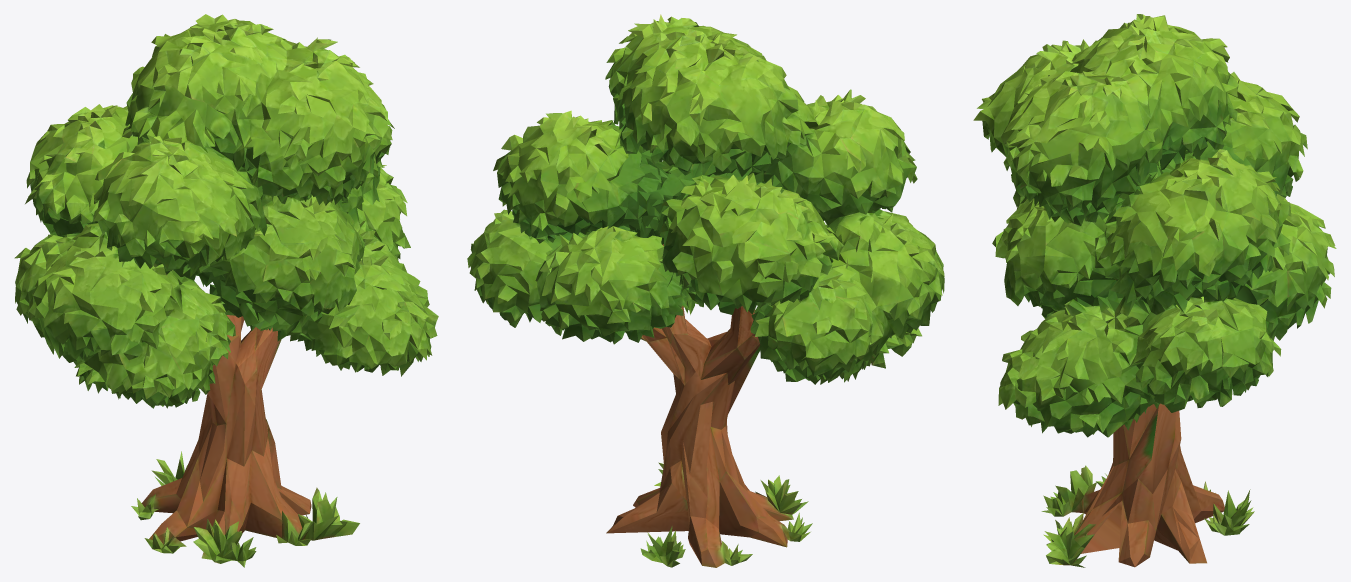
Rendered from agac.glb.
3 renders of one model, left to right at view 1: azimuth 30°, elevation 25°; view 2: azimuth 150°, elevation 25°; view 3: azimuth 270°, elevation 25°, orthographic.
Parts seen in each view (by area): view 1: output_unwrapped; view 2: output_unwrapped; view 3: output_unwrapped.
Boxes of the visible parts, bbox=[...] form: output_unwrapped: bbox=[14, 14, 438, 567]; output_unwrapped: bbox=[467, 14, 944, 567]; output_unwrapped: bbox=[973, 14, 1336, 567].
Bounding box in the file's own units: 1.67 × 1.9 × 1.25.
Materials: 1 (1 with a texture image).
